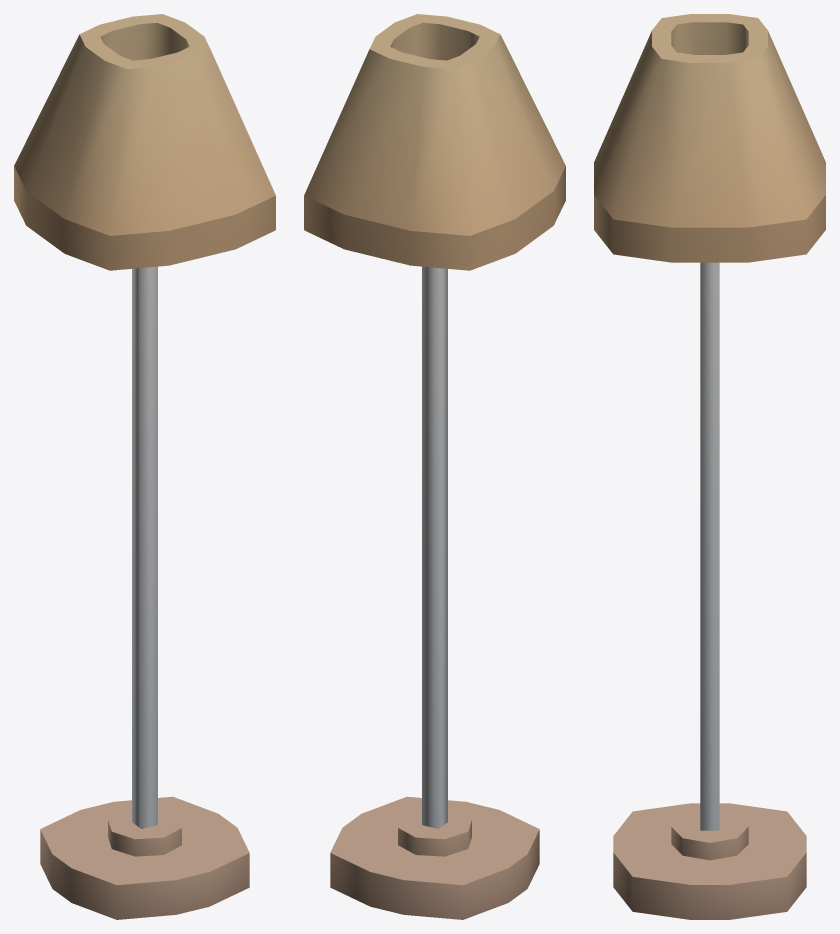
The model's file is lamp-standard-standing.glb.
The picture shows the model from 3 angles, left to right: view 1: azimuth 30°, elevation 25°; view 2: azimuth 150°, elevation 25°; view 3: azimuth 270°, elevation 25°; orthographic projection.
Parts seen in each view (by area): view 1: lamp-standard-standing; view 2: lamp-standard-standing; view 3: lamp-standard-standing.
Part boxes in pixels (x1,y1,x2,y2): lamp-standard-standing: (14,14,275,919); lamp-standard-standing: (304,14,565,919); lamp-standard-standing: (594,14,825,919).
Bounding box in the file's own units: 0.3 × 1.2 × 0.3.
